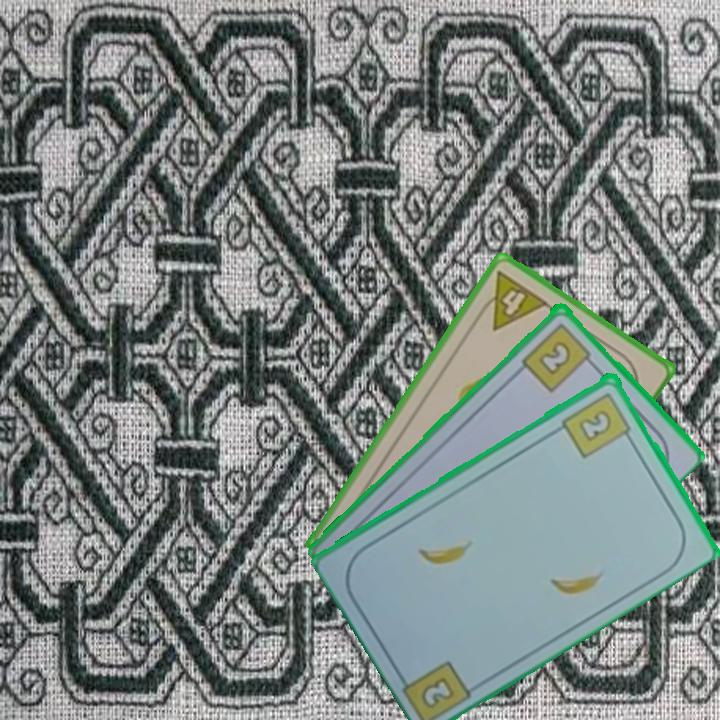2b: (518, 319, 598, 395), (558, 387, 636, 461), (417, 673, 458, 711)
4p: (472, 266, 551, 334)
